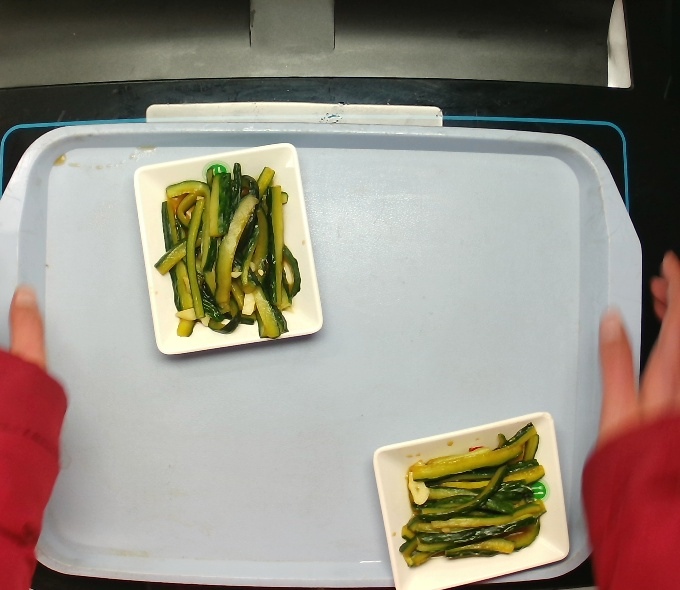wcq-LiangBanHuangGua: (149, 154, 309, 348), (397, 421, 553, 574)
